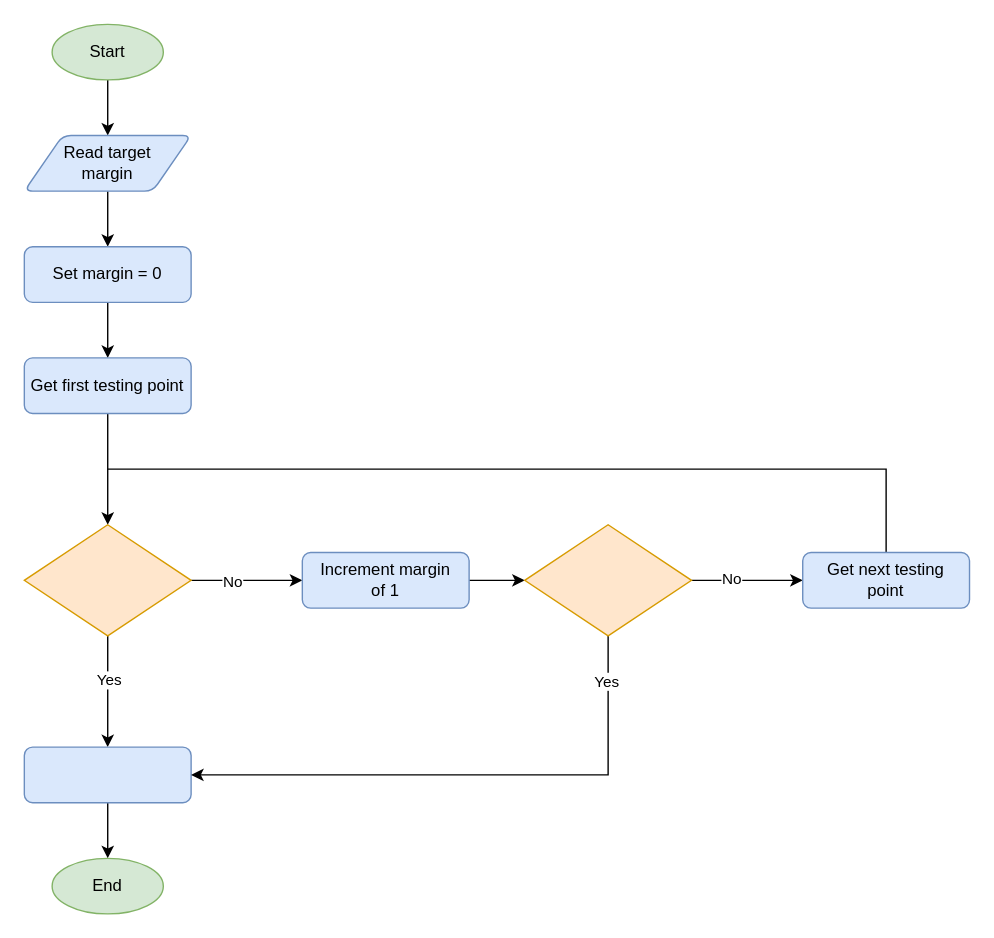
Some shapes in this 994 by 938 pixel diagram are drawn without their labels. Each missing label, with the box of its shape:
Is margin == target margin?: (523, 523, 692, 636)
Is point anomalous?: (23, 523, 191, 636)
Return margin: (23, 746, 191, 803)
